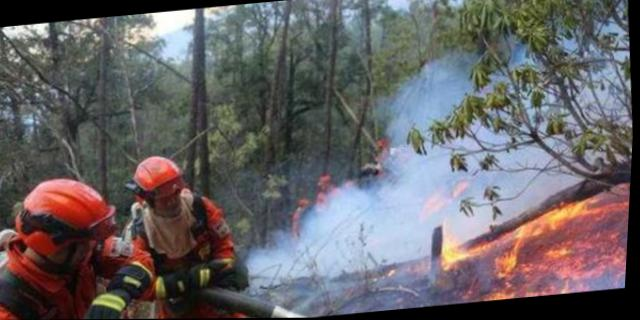fire: (415, 162, 632, 306)
